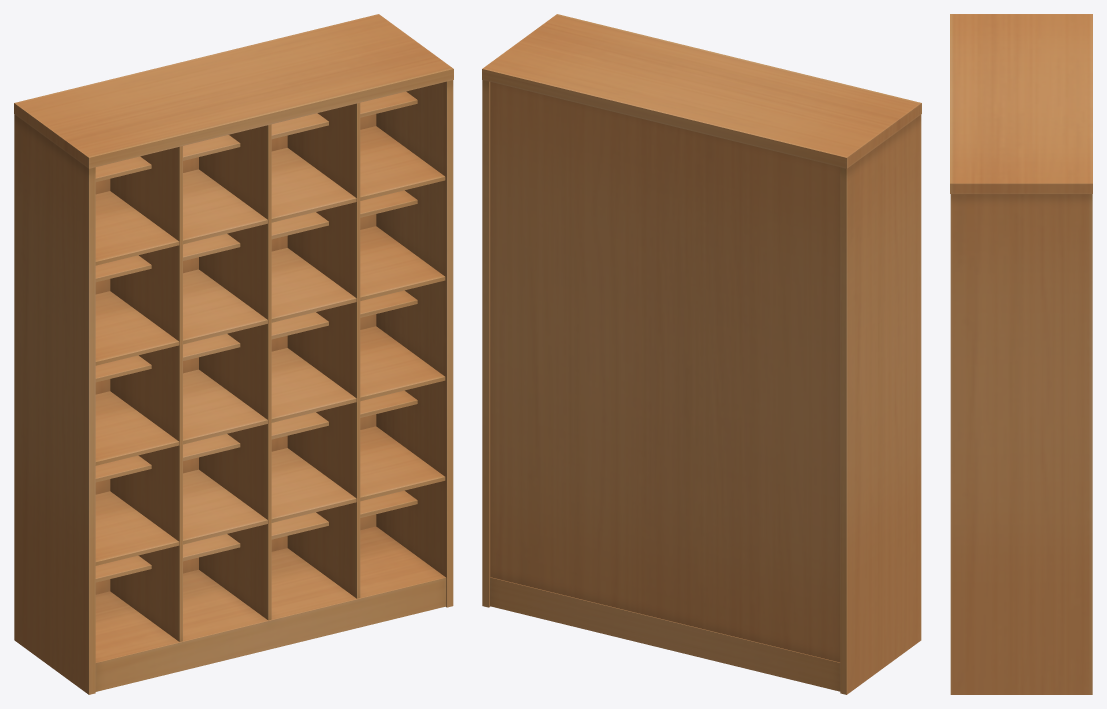
Rendered from set_shoecupboard_b_04.fbx.
The picture shows the model from 3 angles, left to right: view 1: azimuth 30°, elevation 25°; view 2: azimuth 150°, elevation 25°; view 3: azimuth 270°, elevation 25°; orthographic projection. The views are drawn at different scales.
Parts seen in each view (by area): view 1: set_shoecupboard_b_04; view 2: set_shoecupboard_b_04; view 3: set_shoecupboard_b_04.
Part boxes in pixels (bbox=[...]): set_shoecupboard_b_04: bbox=[14, 14, 453, 694]; set_shoecupboard_b_04: bbox=[482, 14, 921, 694]; set_shoecupboard_b_04: bbox=[950, 14, 1092, 694].
Bounding box in the file's own units: 105 × 148 × 37.38.
